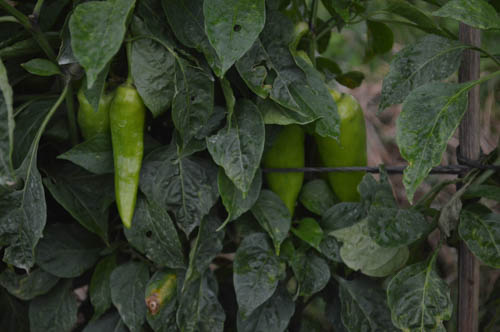ChiliPepper: (107, 89, 145, 227), (316, 96, 367, 193), (260, 127, 304, 211), (72, 90, 110, 134)
